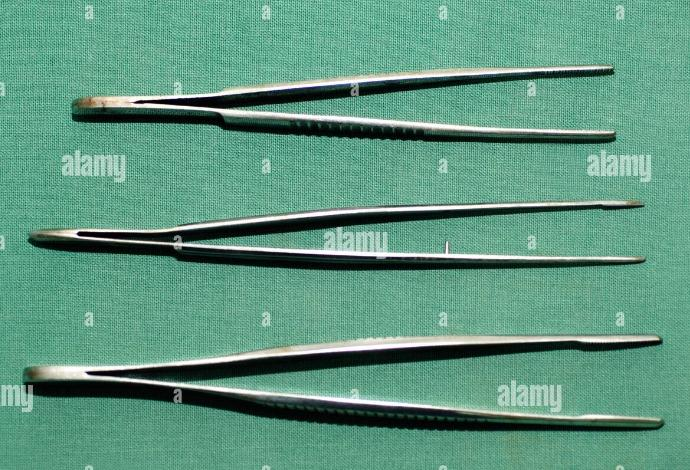Disscting Forceps: (16, 312, 674, 444), (24, 175, 659, 296), (60, 50, 626, 164)
